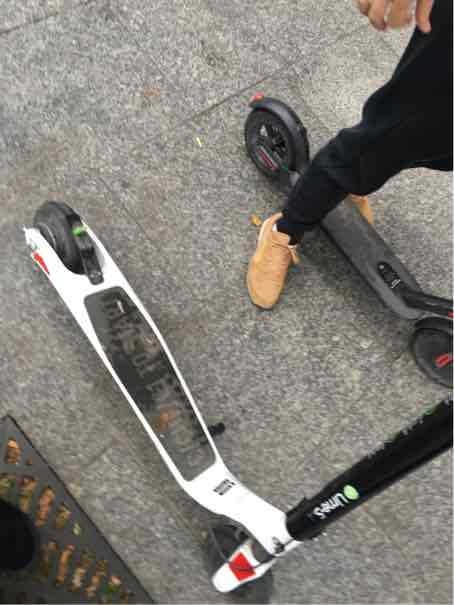scooter: (10, 45, 427, 605)
